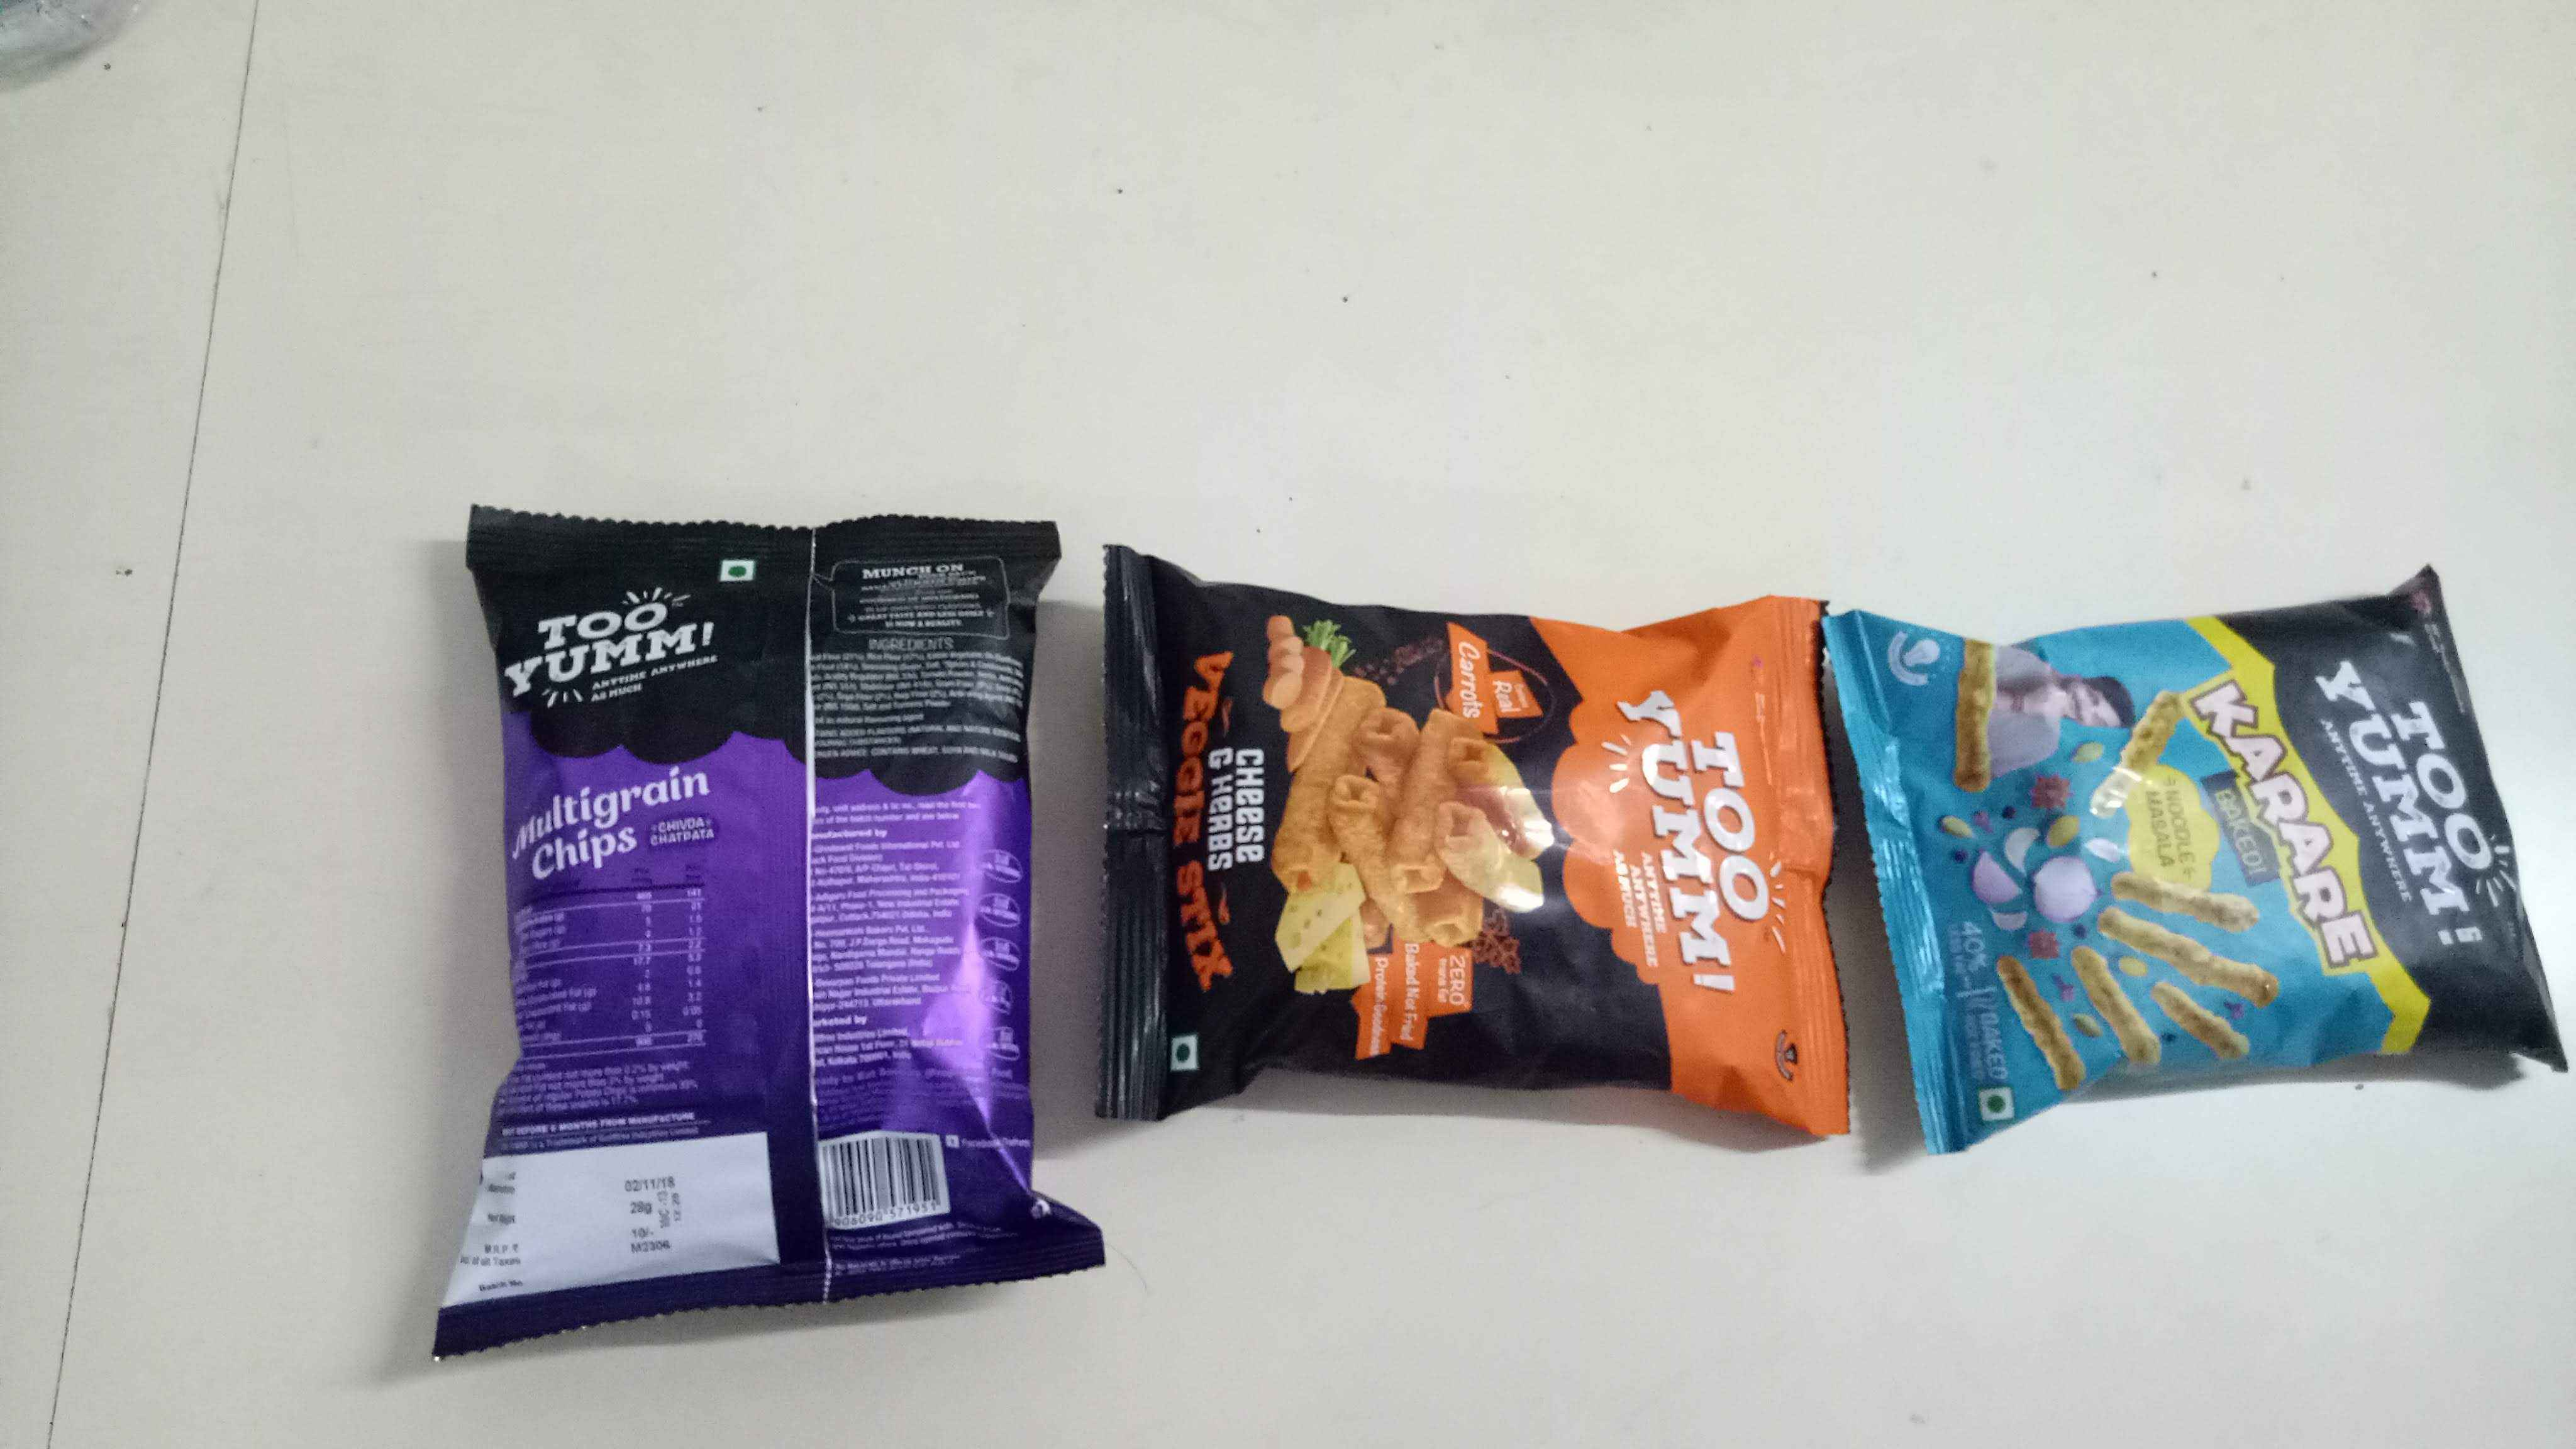tooyumm: (1622, 669, 1812, 1010), (2312, 633, 2519, 936), (518, 587, 731, 720)
